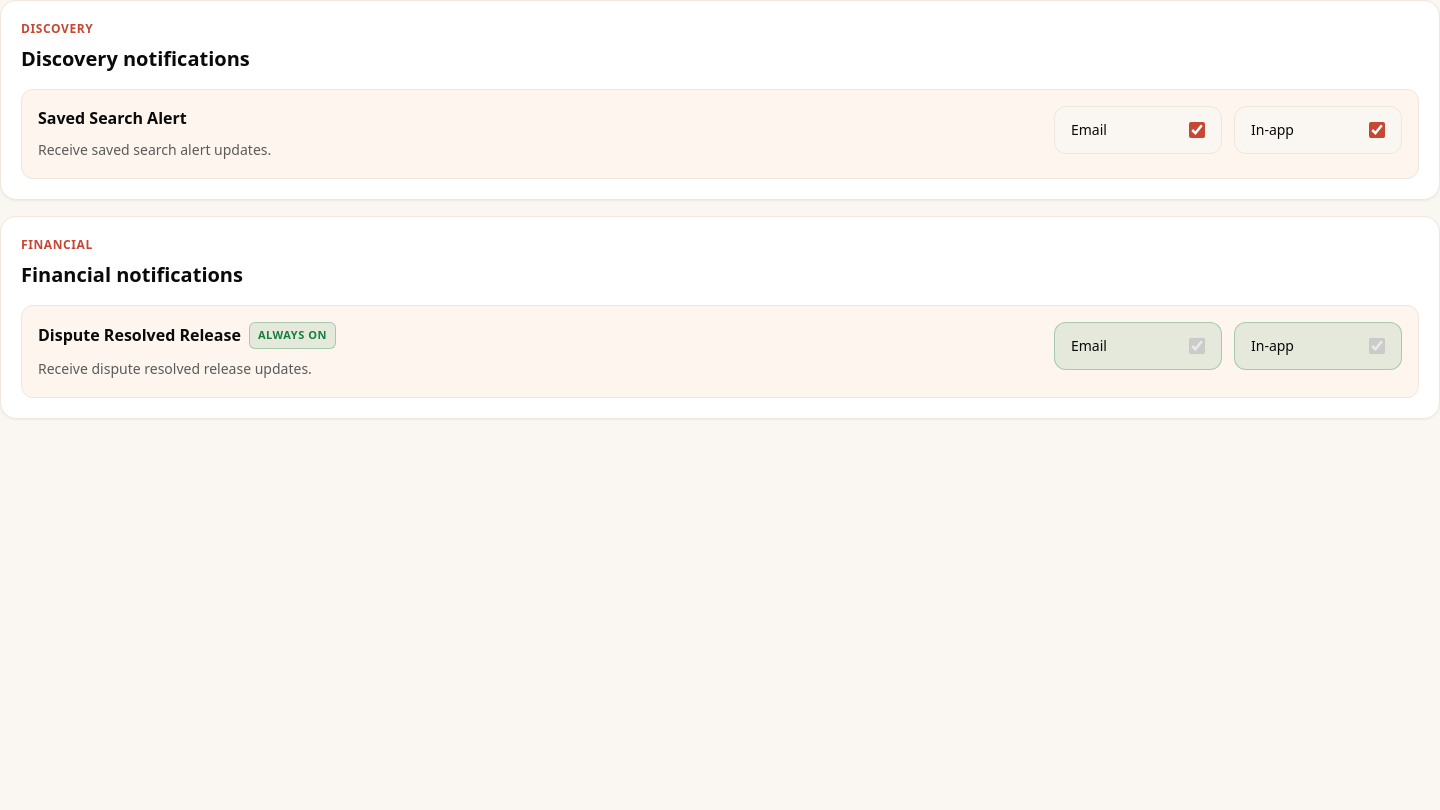
it: NotificationPreferencesPanel › loads grouped preferences, saves one toggle immediately, and locks critical rows
Expected: the heading "Saved Search Alert" is shown, [38,106,187,130]
Click the checkbox named "saved search alert email" at [1197, 130], box [1189,122,1205,138]
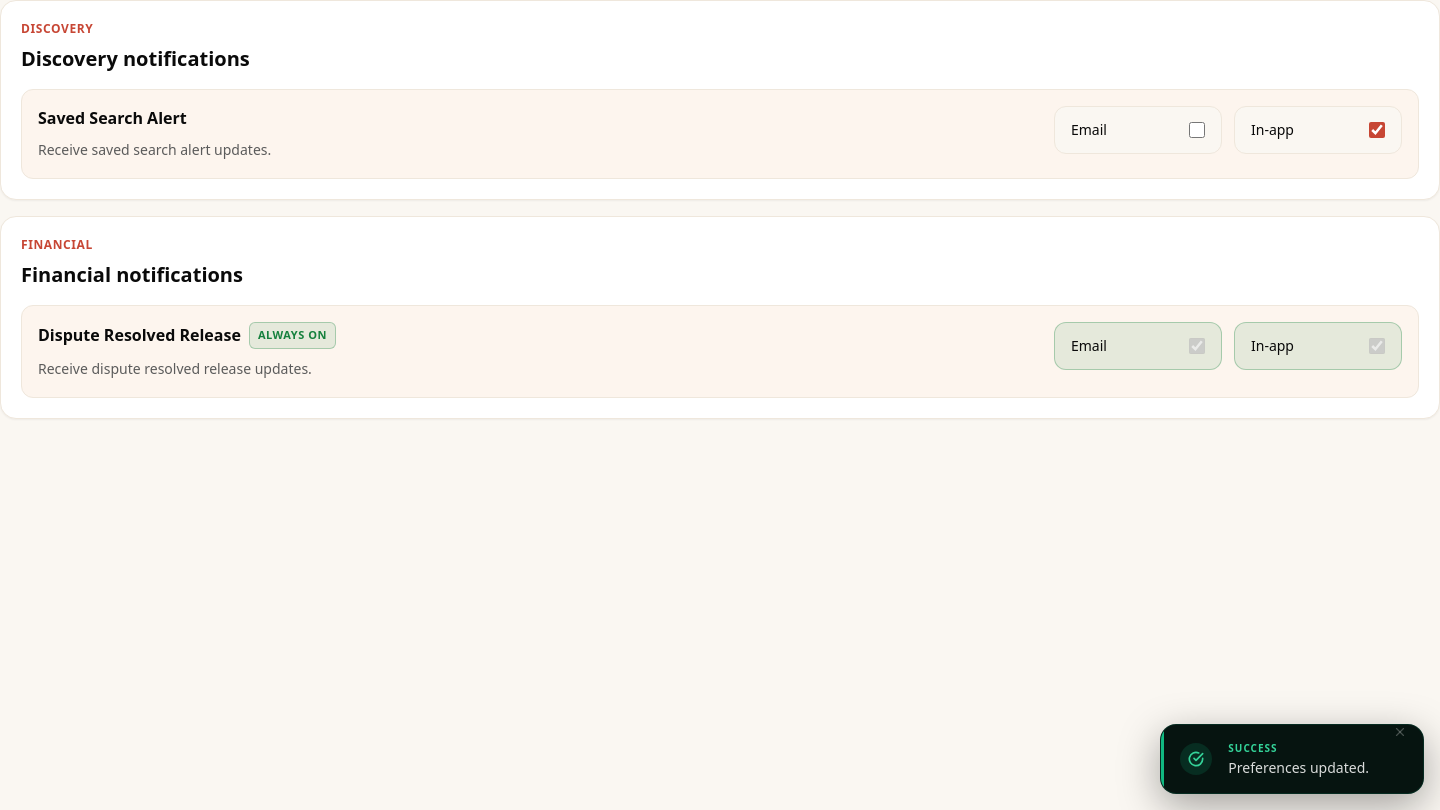
Expected: the checkbox named "dispute resolved release email" is checked, [1189,338,1205,354]
Result: the checkbox named "saved search alert email" is not checked at [1189,122,1205,138]
Result: the text "Preferences updated." is shown at [1228,758,1369,777]
